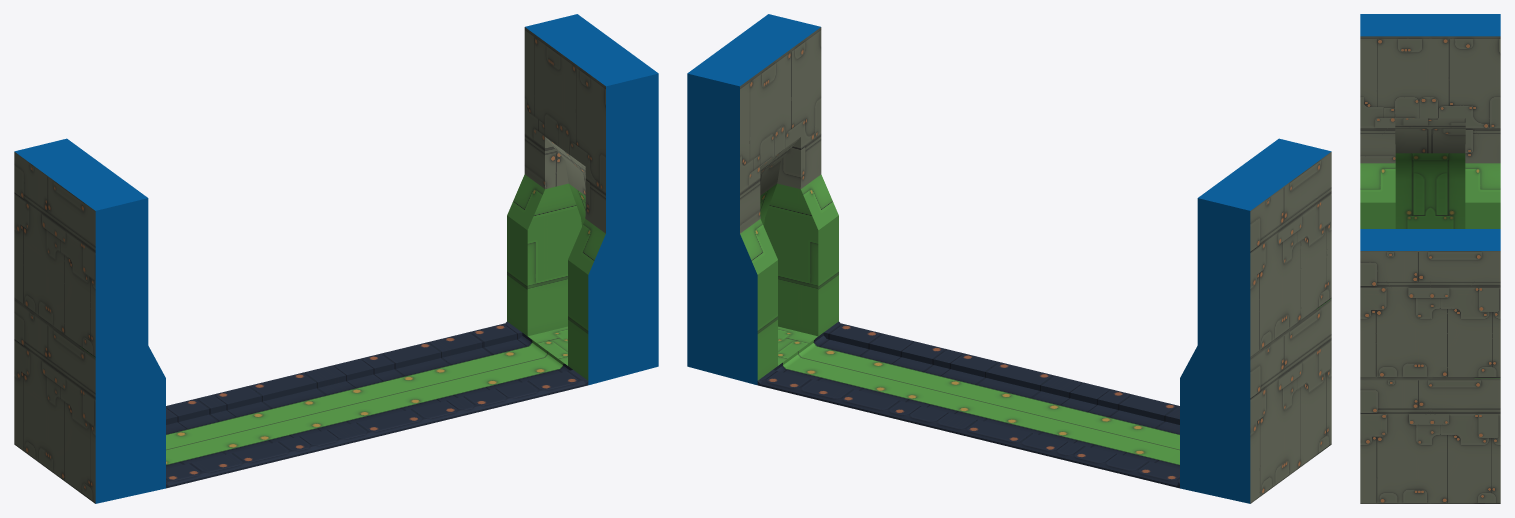
Rendered from Door_FRAME.fbx.
3 renders of one model, left to right at view 1: azimuth 30°, elevation 25°; view 2: azimuth 150°, elevation 25°; view 3: azimuth 270°, elevation 25°, orthographic. The views are drawn at different scales.
Parts seen in each view (by area): view 1: Doorframe_Bottom, Doorframe_Top; view 2: Doorframe_Bottom, Doorframe_Top; view 3: Doorframe_Top, Doorframe_Bottom.
Boxes of the visible parts, x1,y1,x2,y2 form: Doorframe_Bottom: (14,174,658,503); Doorframe_Top: (14,14,658,358); Doorframe_Bottom: (687,174,1331,503); Doorframe_Top: (687,14,1331,358); Doorframe_Top: (1360,14,1500,378); Doorframe_Bottom: (1360,153,1500,503).
Size of the model in its own units: 400 by 201 by 100.
